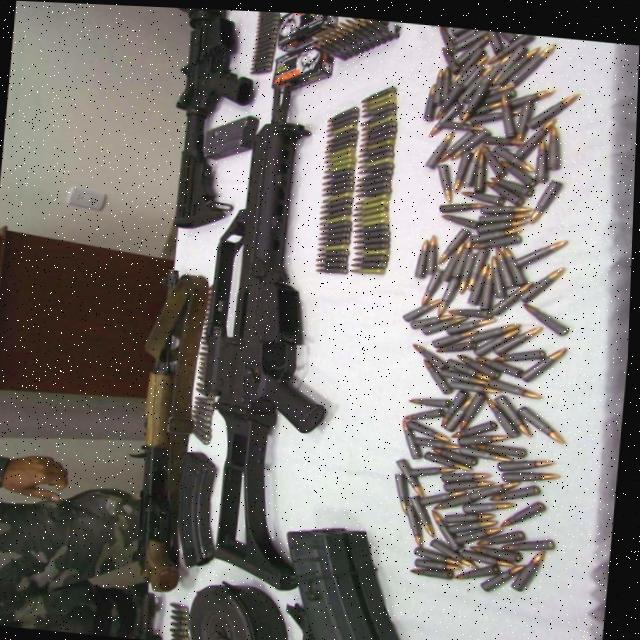firearm: (187, 79, 358, 591), (125, 263, 208, 595), (166, 6, 256, 230)
